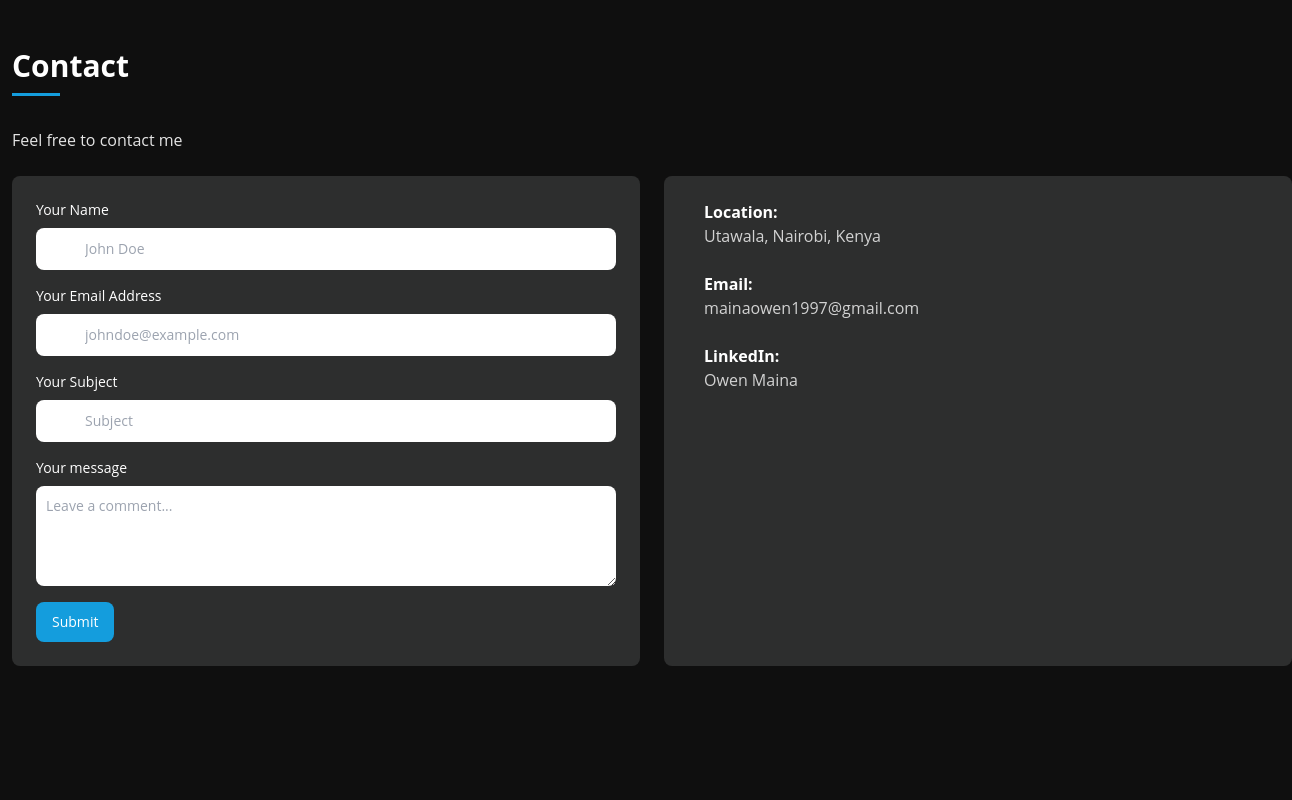
Test: Contact › shows an error alert when sending fails
Type "Jane" into the field labelled "Your Name" at (326, 249), box [36,228,616,270]
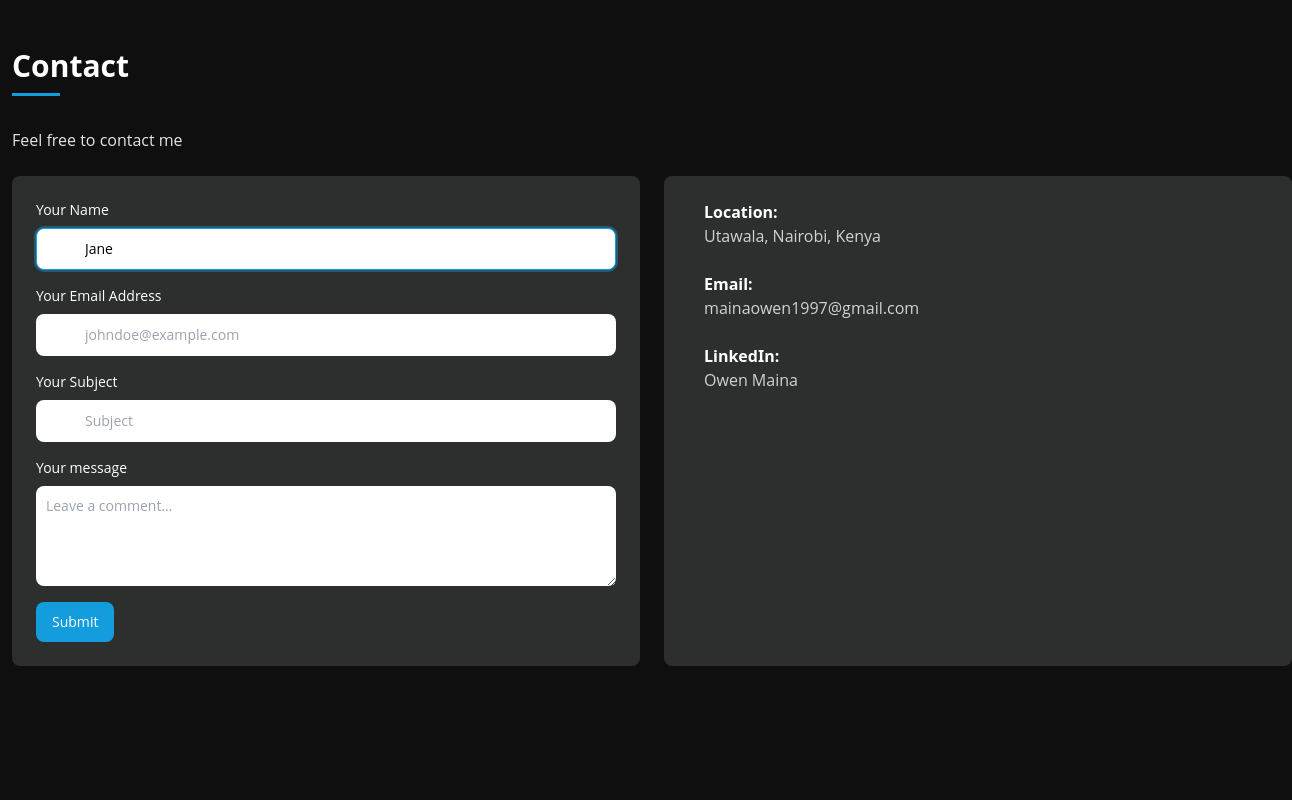
Click the button "Submit" at (75, 622), box [36,602,114,642]
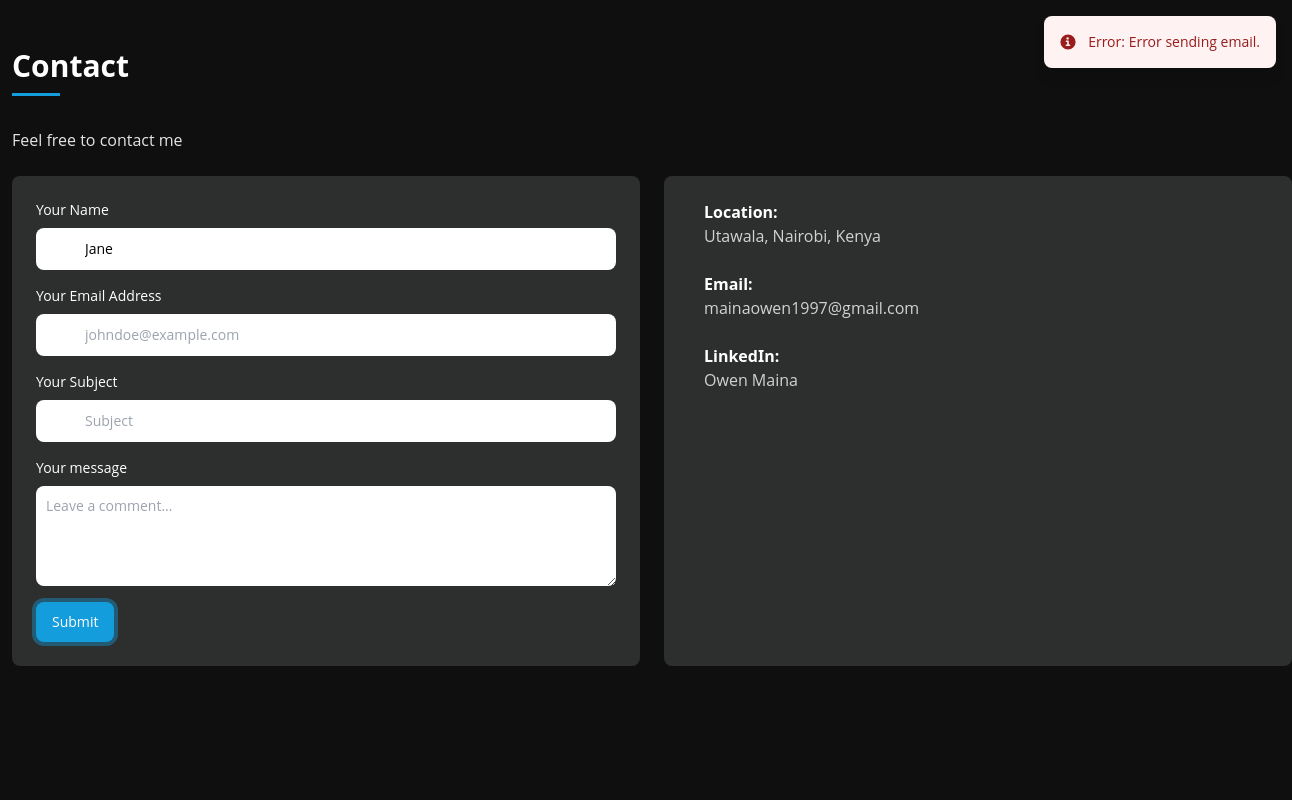
Expected: the message shows "Error sending email.", [1129,32,1260,51]
